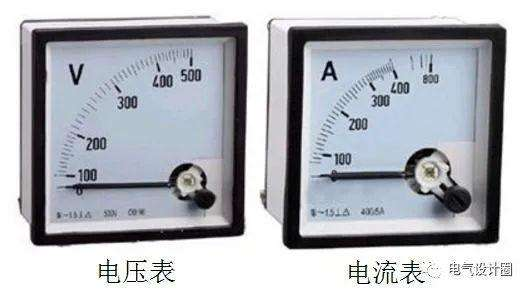pointer: (298, 38, 492, 240), (43, 36, 237, 235)
